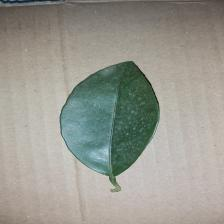healthy: (24, 62, 167, 164)
